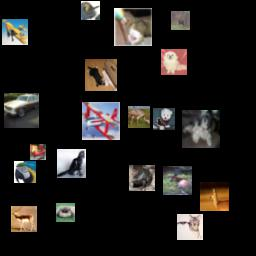airplane: (82, 102, 120, 140), (2, 19, 28, 45), (30, 144, 46, 160)
automobile: (4, 93, 39, 128)
bird: (14, 161, 36, 183), (128, 106, 150, 128), (81, 1, 100, 20)
cat: (114, 8, 152, 46), (85, 59, 117, 91), (57, 149, 86, 178), (177, 214, 203, 240)
deer: (163, 166, 192, 195), (200, 182, 229, 211), (11, 206, 37, 232), (171, 11, 190, 30)
dog: (182, 110, 220, 148), (161, 49, 187, 75), (153, 108, 175, 130), (56, 203, 75, 222)
frog: (129, 165, 155, 191)
